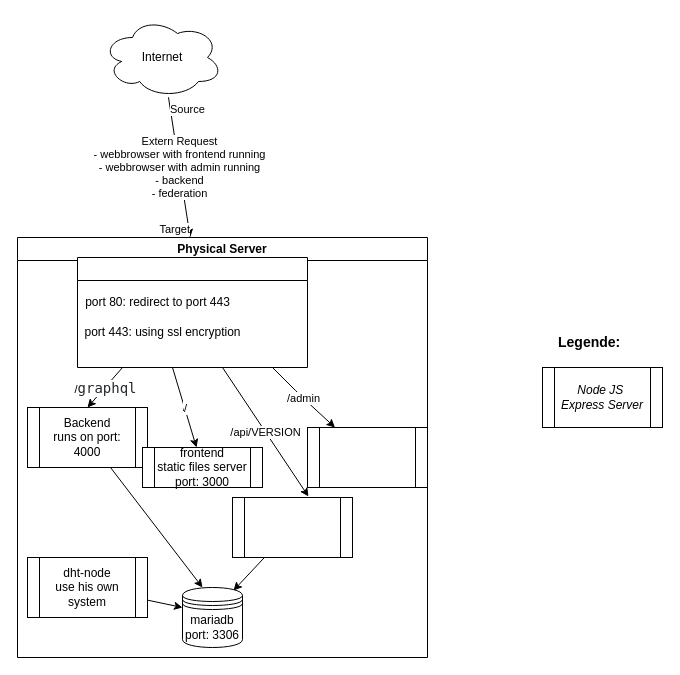
Image size: 680x675. Some labels were removed from this diagram. The box of each missing label's shape, as (x1, y1, x2, y2) in pixels:
admin static files server port: 8080: (306, 426, 428, 488)
Federation on port per version: (232, 496, 352, 558)
nginx: (76, 256, 308, 368)
